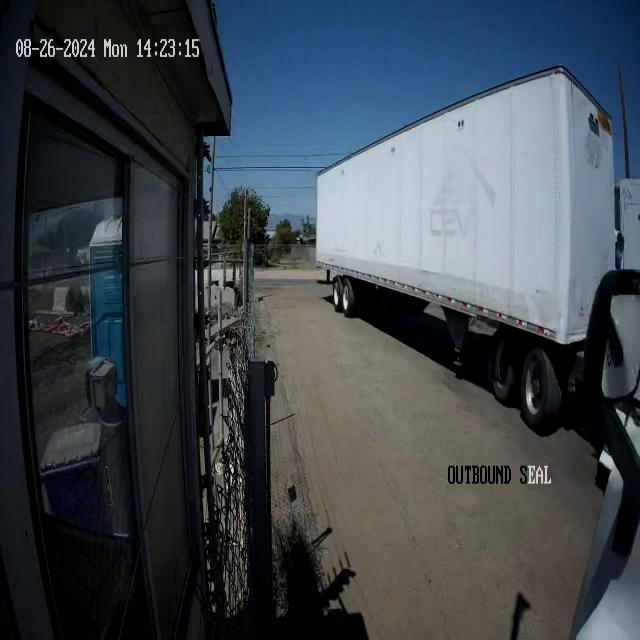CONTAINER: (314, 63, 618, 344)
